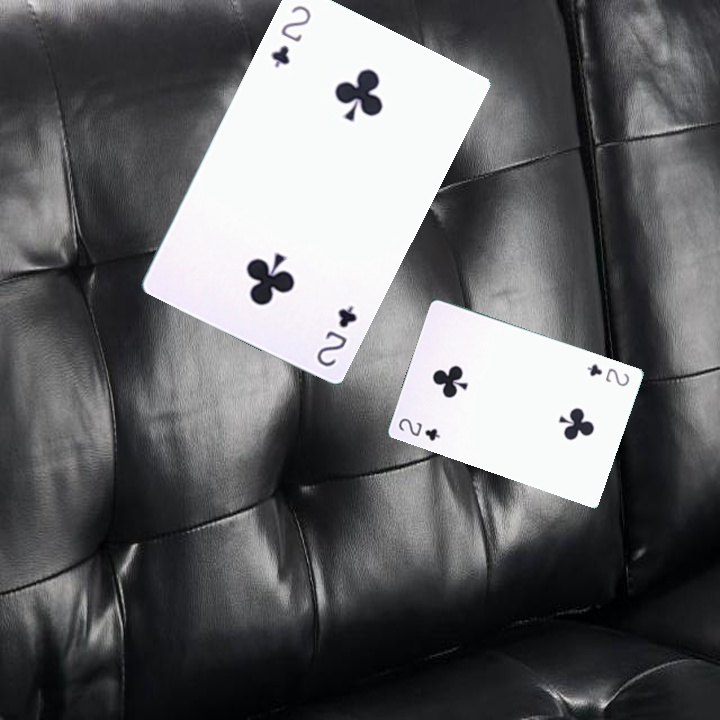2c: (312, 301, 360, 370), (267, 1, 314, 70), (583, 359, 632, 389), (394, 414, 443, 443)
